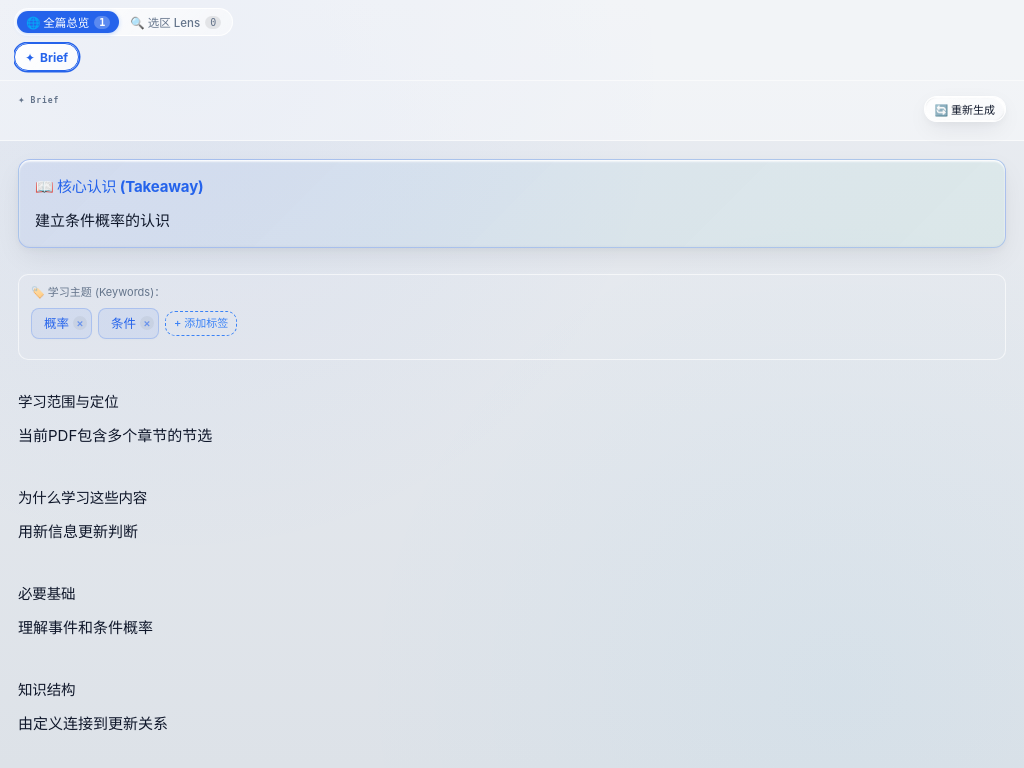
Test: textbook learning artifacts › keeps keyword editing available without losing learning content
This screenshot has width=1024, height=768.
What coordinates should you click on to do the following:
click the button named "移除标签 概率"
I would click on:
 (80, 323)
Its box is [73,316,87,330].
(page scrolled)
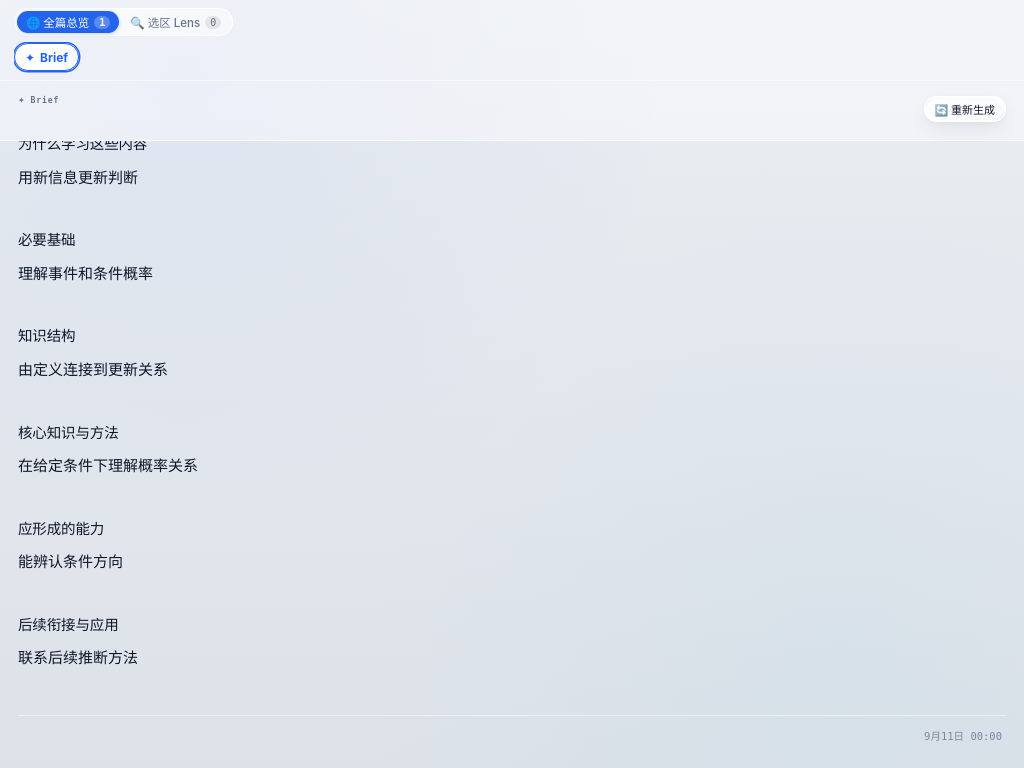
Check: the text "在给定条件下理解概率关系" is shown, box [18,456,198,475]
